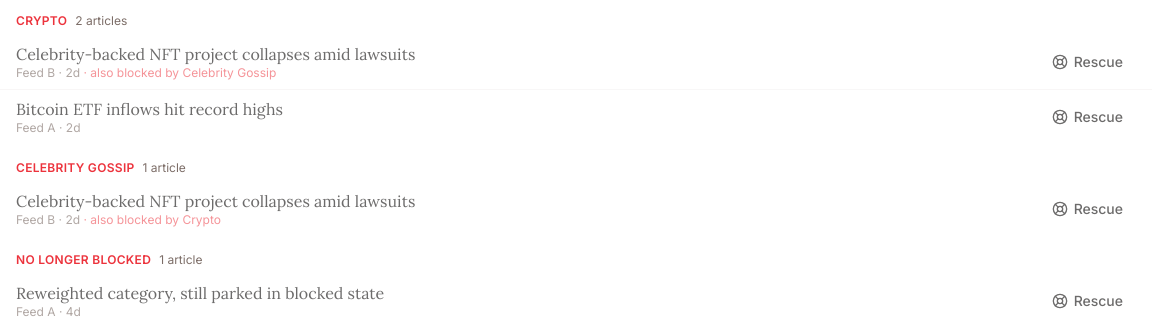
Test: BlockedView › rescues an article via the rescue button and removes it from the view
This screenshot has width=1152, height=333.
Click the button "Rescue" in the row of "Bitcoin ETF inflows hit record highs". click: (1087, 117)
box: [1039, 99, 1136, 135]
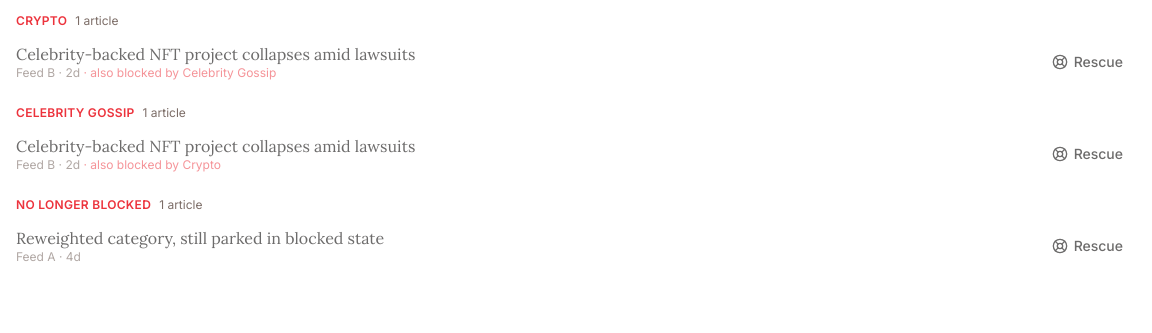
Now the heading "Bitcoin ETF inflows hit record highs" is gone
